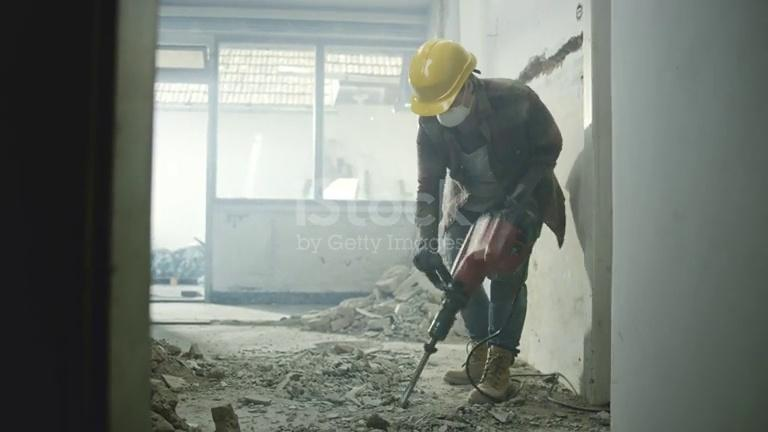helmet: (408, 39, 478, 116)
mask: (433, 99, 471, 128)
person: (407, 38, 566, 405)
